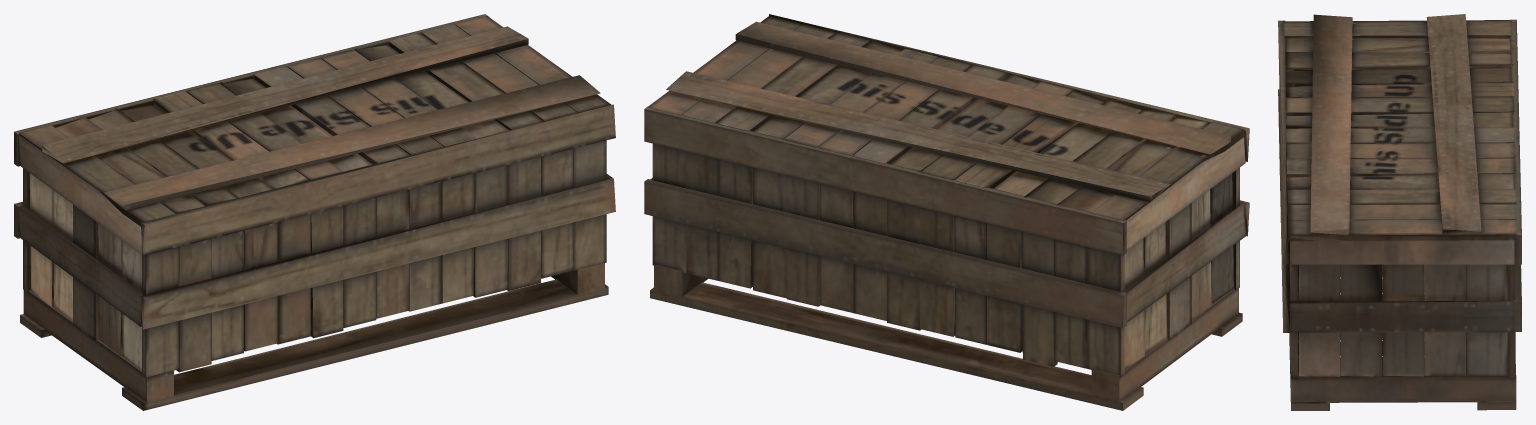
Rendered from Wooden box 2,2.fbx.
The picture shows the model from 3 angles, left to right: view 1: azimuth 30°, elevation 25°; view 2: azimuth 150°, elevation 25°; view 3: azimuth 270°, elevation 25°; orthographic projection. The views are drawn at different scales.
Visible parts, largest first — view 1: Wooden_box002_LOD0; view 2: Wooden_box002_LOD0; view 3: Wooden_box002_LOD0.
Boxes of the visible parts, x1,y1,x2,y2 form: Wooden_box002_LOD0: (14,14,615,410); Wooden_box002_LOD0: (644,14,1249,410); Wooden_box002_LOD0: (1278,14,1521,410).
Size of what is drawn, in the model's own units: 165 by 64.71 by 78.43.
